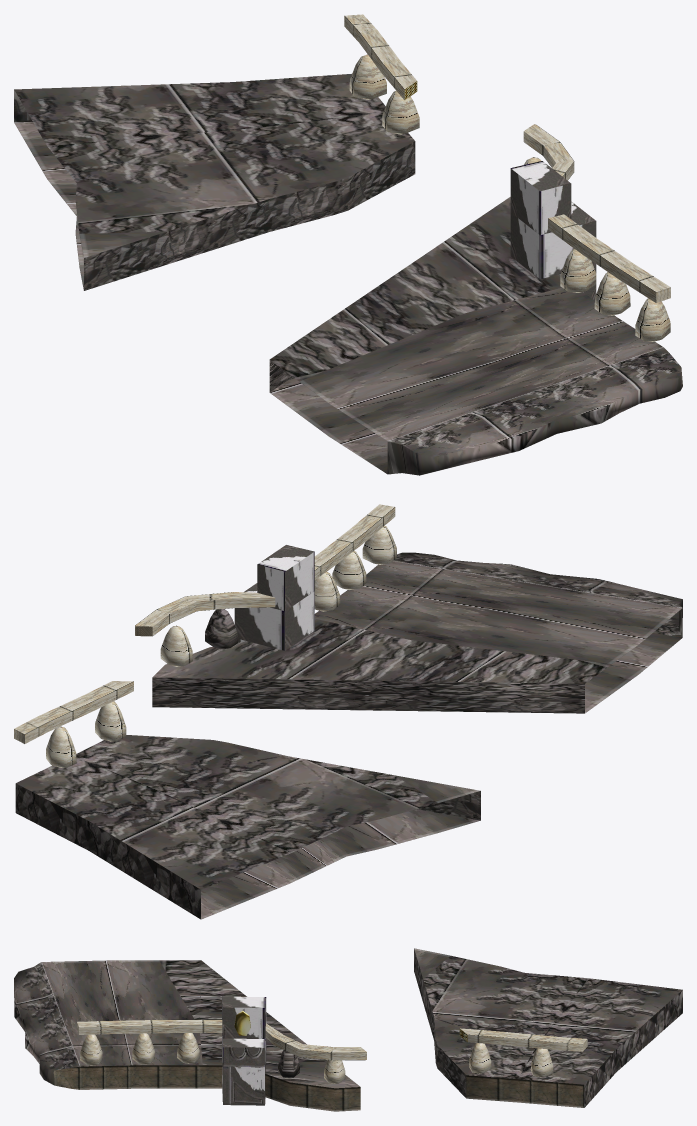
Rendered from INST_SM_WALKWAY_BROKENB.obj.
3 views of the same model, one above another, from view 1: azimuth 30°, elevation 25°; view 2: azimuth 150°, elevation 25°; view 3: azimuth 270°, elevation 25° (orthographic). The views are drawn at different scales.
Parts seen in each view (by area): view 1: Box37, Object205, Object190; view 2: Box37, Object205, Object204, Object140, Object190; view 3: Box37, Object205, Object190, Object140.
Part boxes in pixels (box(x1,y1,x2,y2)): Box37: box(14, 14, 670, 473); Object205: box(269, 197, 561, 381); Object190: box(387, 347, 682, 475); Box37: box(14, 504, 682, 919); Object205: box(153, 618, 611, 683); Object204: box(152, 677, 584, 713); Object140: box(15, 783, 200, 919); Object190: box(394, 552, 682, 637); Box37: box(41, 948, 682, 1111); Object205: box(159, 960, 360, 1088); Object190: box(14, 962, 79, 1089); Object140: box(584, 990, 682, 1107).
Size of the model in its own units: 809 by 232 by 1585.
